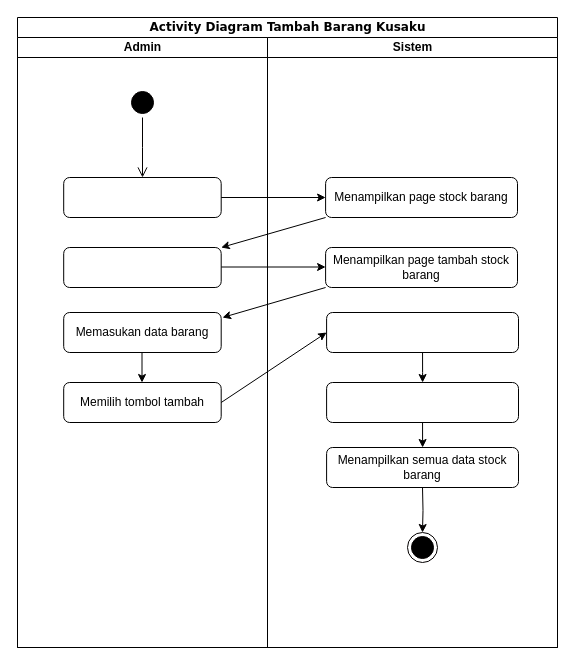
This 575x665 diagram has some shape labels left out. Each missing label, with the centre of its shape:
Data Tersimpan: (x=422, y=332)
Data tersimpan ke database: (x=422, y=402)
Memilih menu stock barang: (x=142, y=197)
Memilih menu tambah stock barang: (x=142, y=267)
